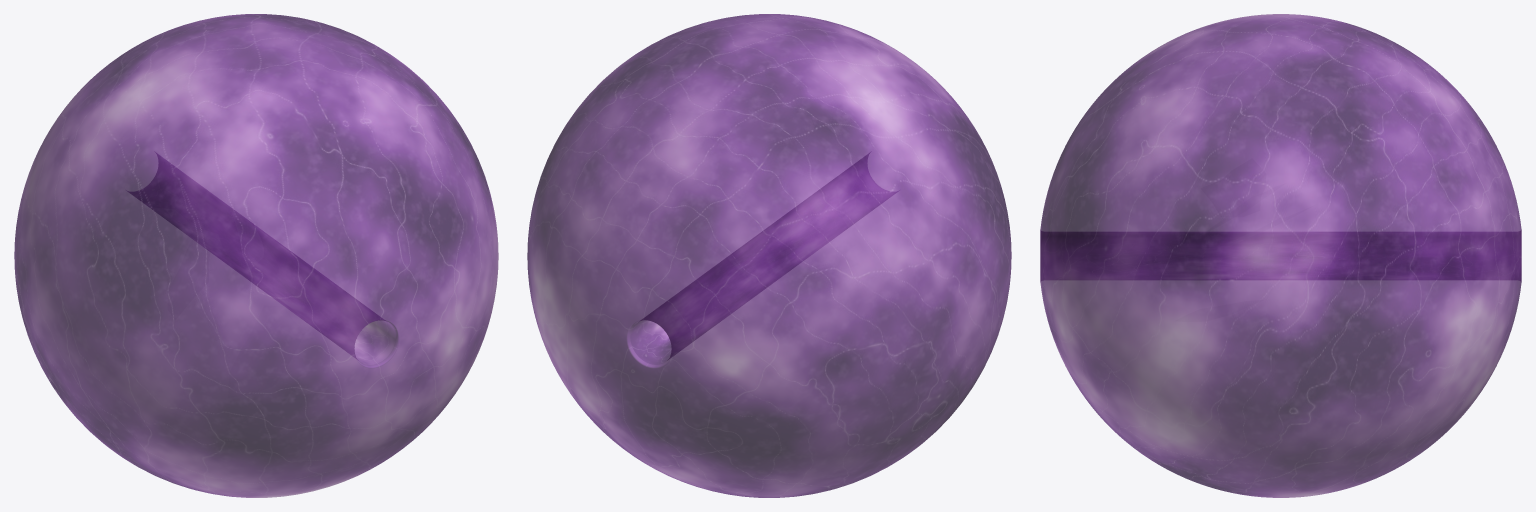
The model's file is amethyst-10mm.glb.
The picture shows the model from 3 angles, left to right: view 1: azimuth 30°, elevation 25°; view 2: azimuth 150°, elevation 25°; view 3: azimuth 270°, elevation 25°; orthographic projection.
Parts seen in each view (by area): view 1: amethyst.001; view 2: amethyst.001; view 3: amethyst.001.
Part boxes in pixels (x1,y1,x2,y2): amethyst.001: (14, 14, 498, 497); amethyst.001: (527, 14, 1011, 497); amethyst.001: (1040, 14, 1521, 497).
Size of the model in its own units: 0.01 by 0.01 by 0.00994.
2 materials, 1 textured.
